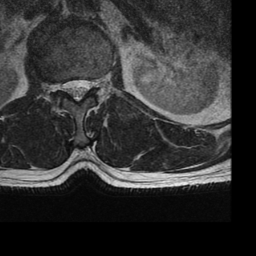CCS_normal: (72, 70, 82, 110)
LFS_normal: (91, 68, 101, 97)
LLS_normal: (82, 70, 91, 99)
RFS_normal: (54, 69, 63, 100)
RLS_normal: (63, 70, 72, 102)
